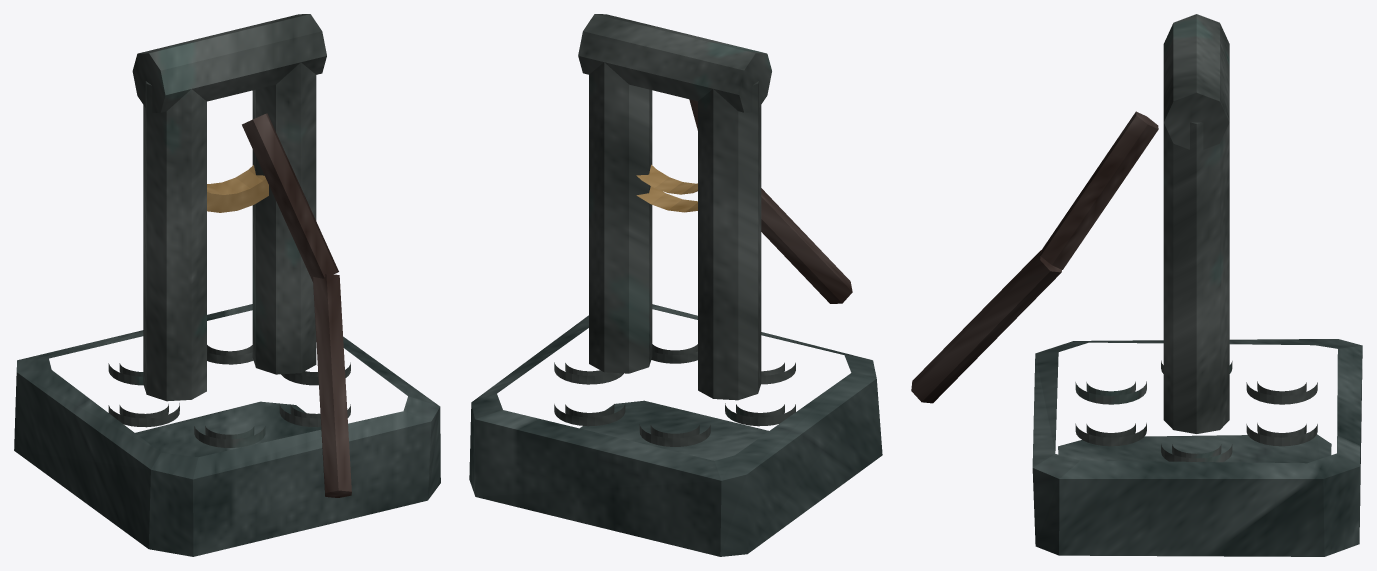
File: 0695_rope_anchor_20.glb
3 views of the same model, side by side, from view 1: azimuth 30°, elevation 25°; view 2: azimuth 150°, elevation 25°; view 3: azimuth 270°, elevation 25° (orthographic).
Parts seen in each view (by area): view 1: iron, stone_dark, wood_dark, brass; view 2: iron, stone_dark, wood_dark, brass; view 3: stone_dark, iron, wood_dark.
Part boxes in pixels (x1,y1,x2,y2): iron: (108,14,350,447); stone_dark: (14,304,440,556); wood_dark: (242,113,351,497); brass: (207,165,268,212); iron: (554,14,795,446); stone_dark: (469,304,882,556); wood_dark: (689,99,852,303); brass: (636,164,697,212); stone_dark: (1032,339,1362,556); iron: (1075,14,1317,462); wood_dark: (911,111,1158,403).
Size of the model in its own units: 1.21 by 1.78 by 1.65.
Materials: 4 (4 with a texture image).
